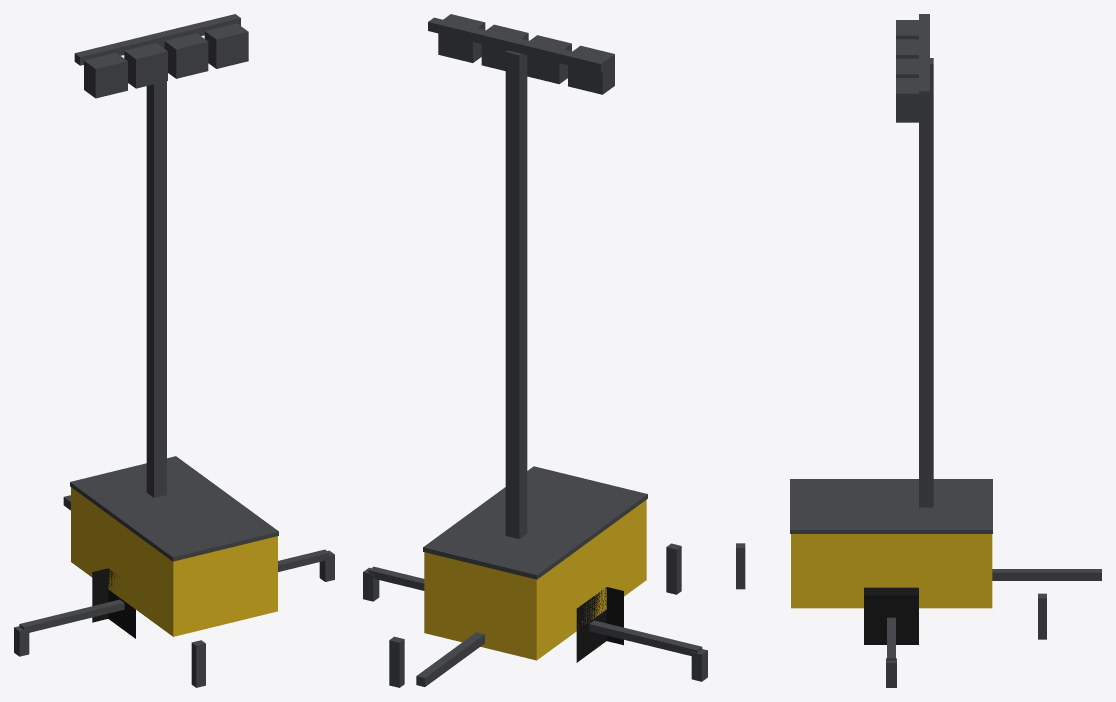
Rendered from light_tower.dae.
3 renders of one model, left to right at view 1: azimuth 30°, elevation 25°; view 2: azimuth 150°, elevation 25°; view 3: azimuth 270°, elevation 25°, orthographic. The views are drawn at different scales.
Visible parts, largest first — view 1: marker; view 2: marker; view 3: marker.
Part boxes in pixels (x1,y1,x2,y2): marker: (14, 14, 334, 687); marker: (363, 14, 707, 687); marker: (736, 14, 1101, 687).
Bounding box in the file's own units: 3.92 × 4 × 6.75.
Materials: 1 (1 with a texture image).
